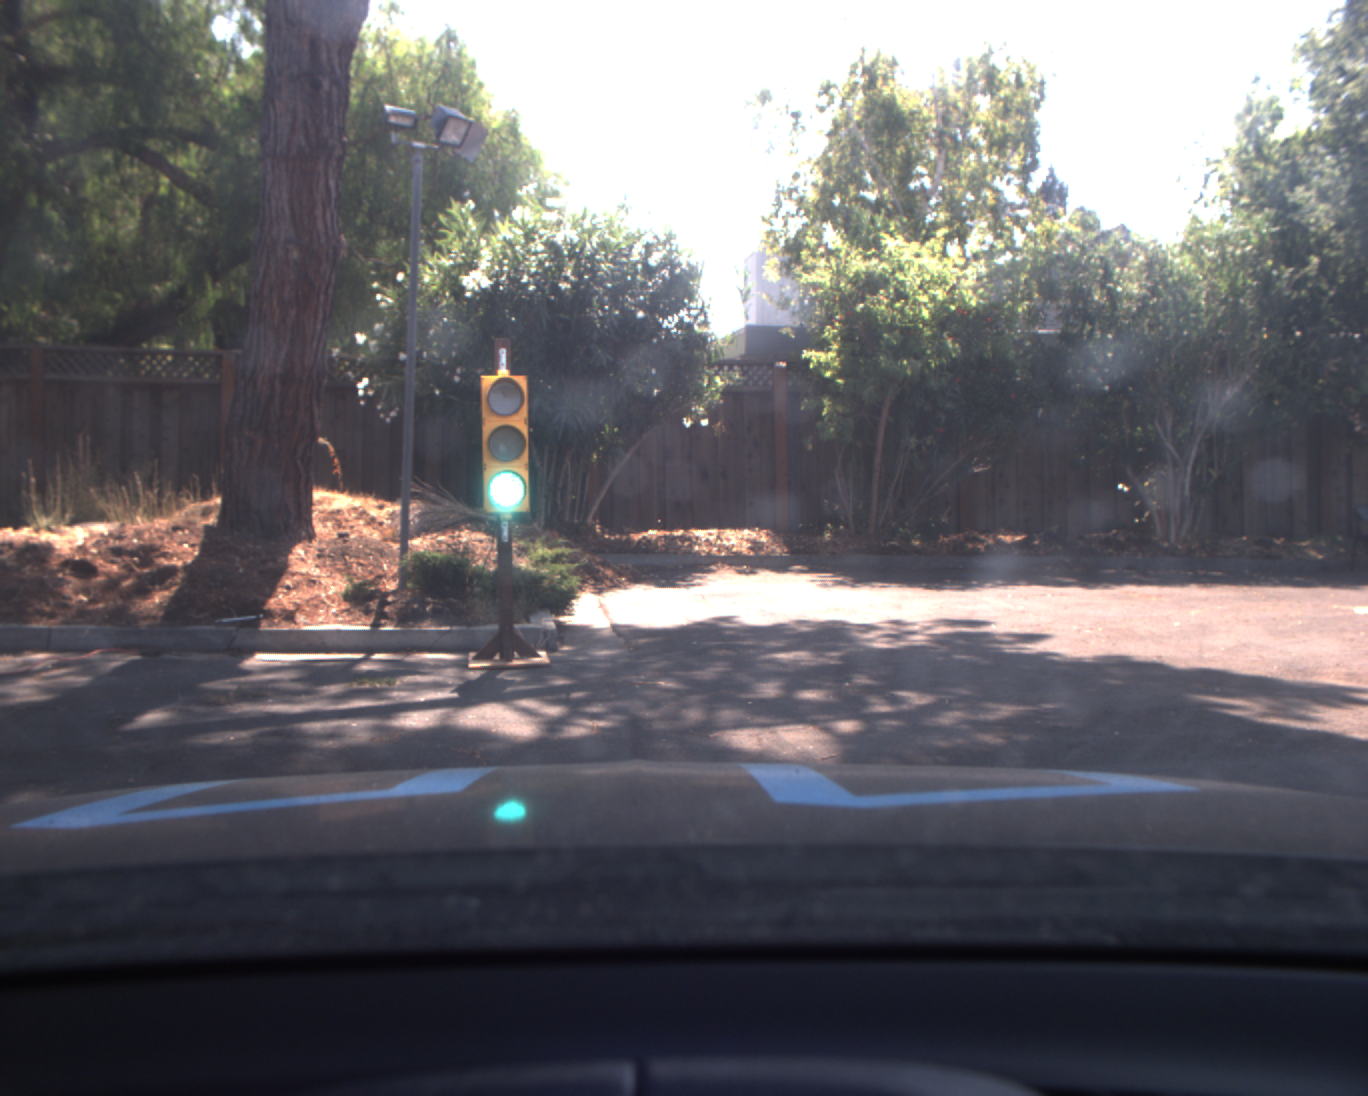green: (478, 367, 535, 519)
